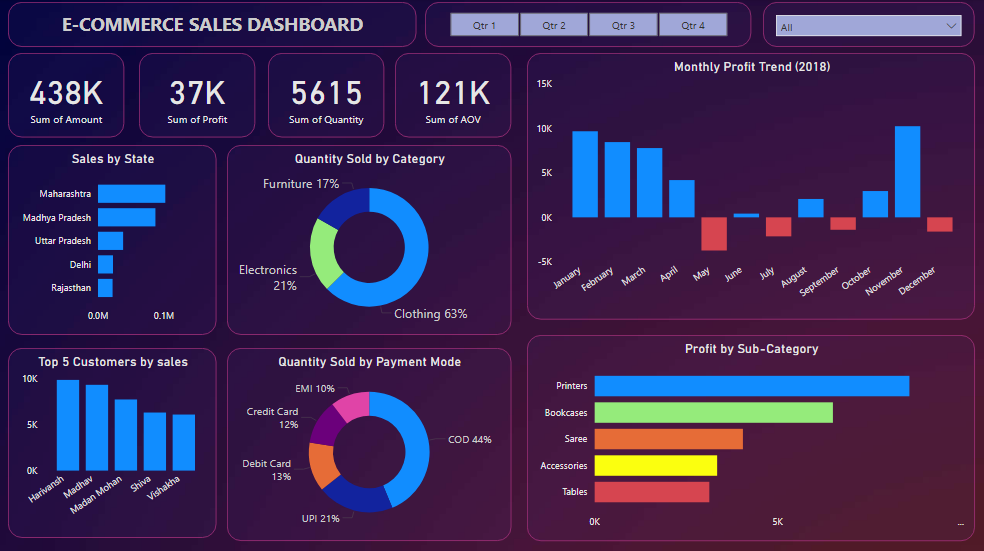

What the dashboard file says about the page in this screenshot:
{"tool":"powerbi","page":{"name":"Page 1","canvas":[1280,720],"ordinal":0},"visuals":[{"type":"textbox","box":[19.8,4.3,527.2,58.1],"z":0},{"type":"columnChart","title":"Monthly Profit Trend (2018)","fields":{"Y":["Details.Profit"],"Category":["Orders.Order Date.Variation.Date Hierarchy.Month"]},"box":[688.8,69.4,578.3,344.4],"z":1000},{"type":"barChart","title":"Profit by Sub-Category","fields":{"Category":["Details.Sub-Category"],"Y":["Details.Profit"]},"box":[688.8,433.7,578.3,266.5],"z":2000},{"type":"donutChart","title":"Quantity Sold by Category","fields":{"Category":["Details.Category"],"Y":["Details.Quantity"]},"box":[301.9,188.5,367.1,245.2],"z":3000},{"type":"donutChart","title":"Quantity Sold by Payment Mode","fields":{"Y":["Details.Quantity"],"Category":["Details.PaymentMode"]},"box":[301.9,450.7,367.1,249.4],"z":4000},{"type":"card","fields":{"Values":["Details.Amount"]},"box":[19.8,69.4,150.2,109.1],"z":5000},{"type":"card","fields":{"Values":["Details.Profit"]},"box":[188.5,69.4,150.2,109.1],"z":6000},{"type":"card","fields":{"Values":["Details.Quantity"]},"box":[354.3,69.4,150.2,109.1],"z":7000},{"type":"card","fields":{"Values":["Details.AOV"]},"box":[518.7,69.4,150.2,109.1],"z":8000},{"type":"barChart","title":"Sales by State","fields":{"Category":["Orders.State"],"Y":["Details.Amount"]},"box":[19.8,188.5,269.3,245.2],"z":9000},{"type":"columnChart","title":"Top 5 Customers by sales ","fields":{"Category":["Orders.CustomerName"],"Y":["Details.Amount"]},"box":[19.8,450.7,269.3,245.2],"z":10000},{"type":"slicer","fields":{"Values":["Orders.Order Date.Variation.Date Hierarchy.Quarter"]},"box":[557,4.3,420.9,58.1],"z":11000},{"type":"slicer","fields":{"Values":["Orders.State"]},"box":[994,4,273,58],"z":12000}]}

Visuals, with their boxes in screenshot pixels (x1, y1, x2, y2), scaled from the page's 1280x720 canvas onto the 984x551 screenshot:
textbox: 15, 3, 421, 48
"Monthly Profit Trend (2018)" columnChart: 530, 53, 974, 317
"Profit by Sub-Category" barChart: 530, 332, 974, 536
"Quantity Sold by Category" donutChart: 232, 144, 514, 332
"Quantity Sold by Payment Mode" donutChart: 232, 345, 514, 536
card - Details.Amount: 15, 53, 131, 137
card - Details.Profit: 145, 53, 260, 137
card - Details.Quantity: 272, 53, 388, 137
card - Details.AOV: 399, 53, 514, 137
"Sales by State" barChart: 15, 144, 222, 332
"Top 5 Customers by sales " columnChart: 15, 345, 222, 533
slicer - Orders.Order Date.Variation.Date Hierarchy.Quarter: 428, 3, 752, 48
slicer - Orders.State: 764, 3, 974, 47
